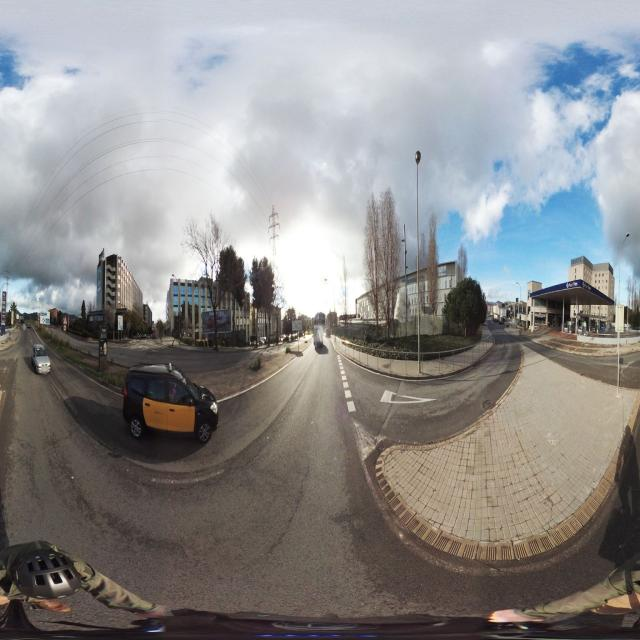car: (122, 366, 219, 446), (31, 344, 51, 376)
